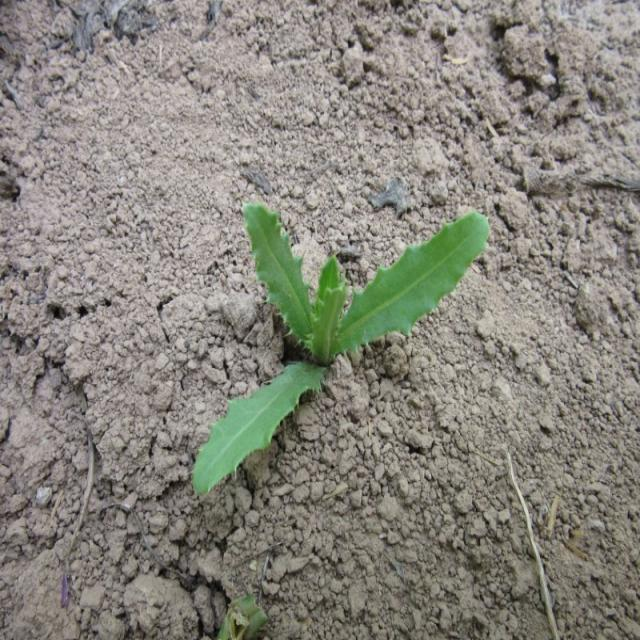cs: (191, 198, 490, 500)
